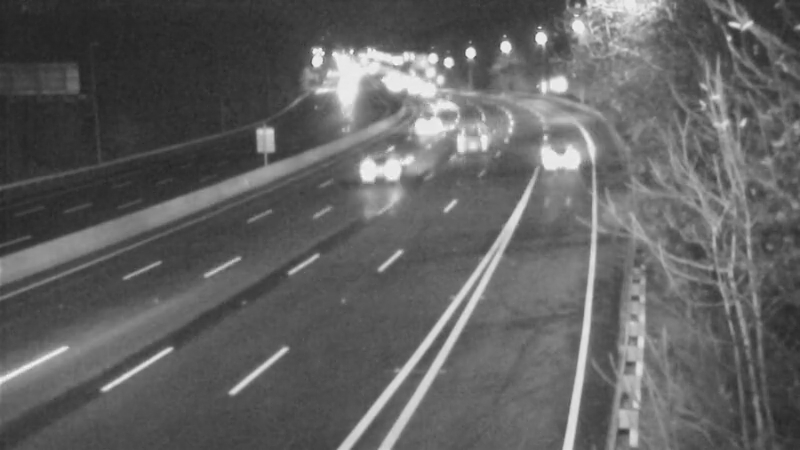vehicle: (521, 113, 601, 193), (343, 129, 423, 209), (400, 64, 450, 114), (410, 86, 460, 136), (408, 95, 458, 145), (446, 113, 496, 163)
